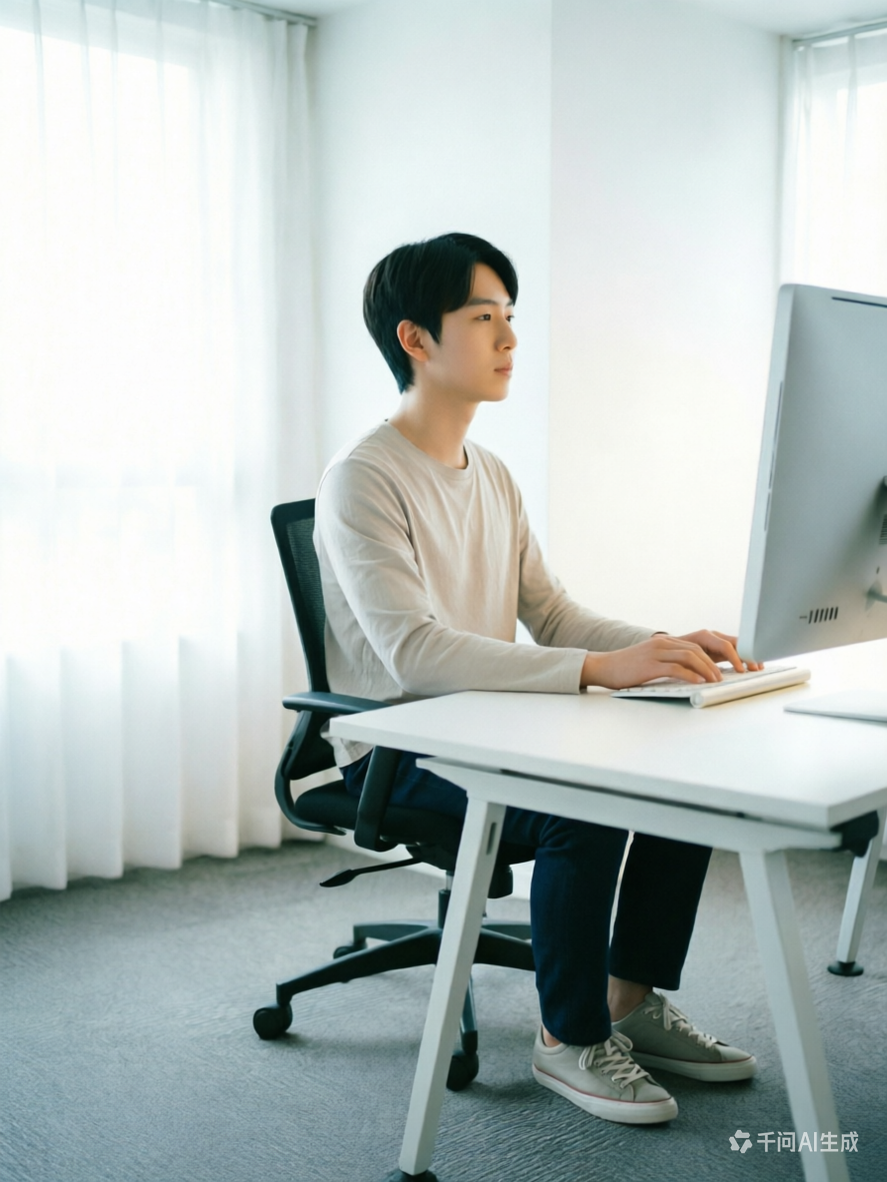sitting_good: (308, 237, 759, 1111)
